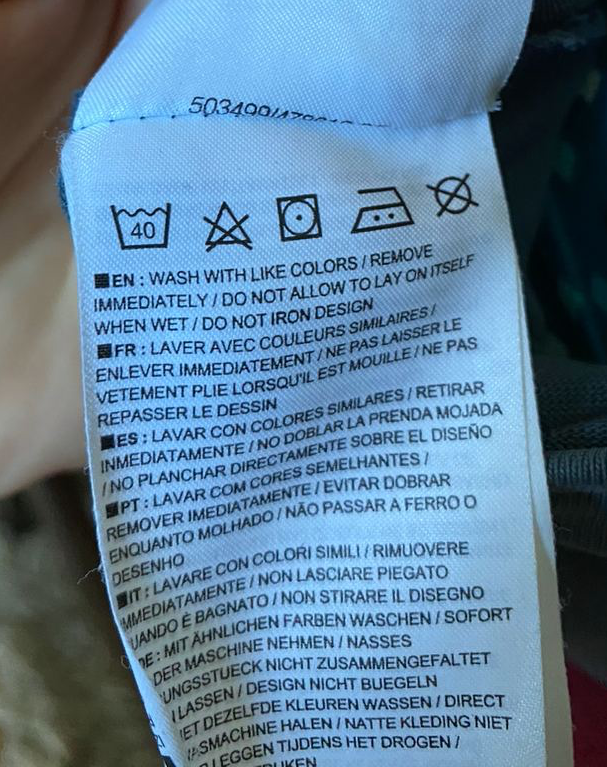do_not_bleach: (200, 197, 258, 253)
do_not_dry_clean: (426, 167, 481, 220)
ironing_at_med_temp: (347, 180, 418, 235)
tumble_drying_low_temps: (274, 188, 326, 245)
wash_at_or_below_40: (110, 198, 177, 252)
